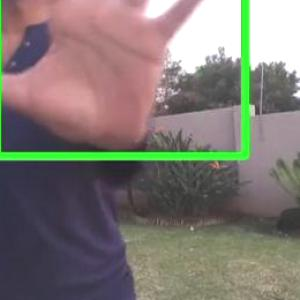follow_hand: (1, 0, 226, 157)
